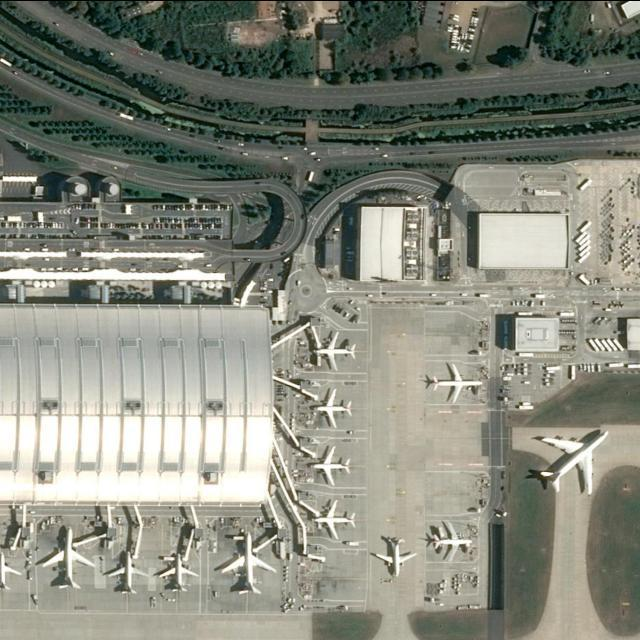Aircraft: (535, 427, 609, 496), (220, 529, 276, 595), (41, 525, 95, 587), (432, 362, 480, 402), (315, 328, 357, 370), (109, 548, 148, 592), (430, 519, 471, 559), (312, 500, 356, 537), (315, 387, 355, 427), (311, 446, 351, 484), (376, 538, 416, 576), (160, 555, 197, 591), (0, 547, 20, 590)
